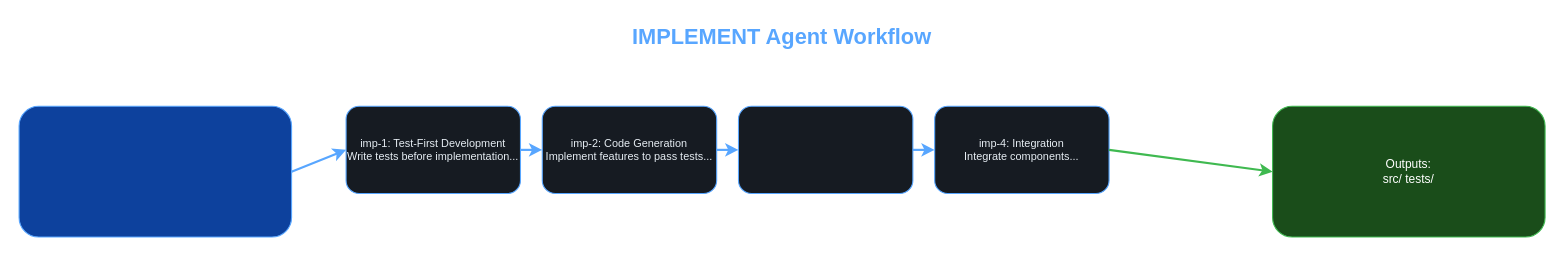
Image size: 1564x256. Some labels were removed from this diagram. Here are the shapes that lost their labels. From the top down, the centre of each, then its label:
(825,149): imp-3: Refactoring Improve code quality...
(155,171): Inputs: Architecture, Design, Requirements
